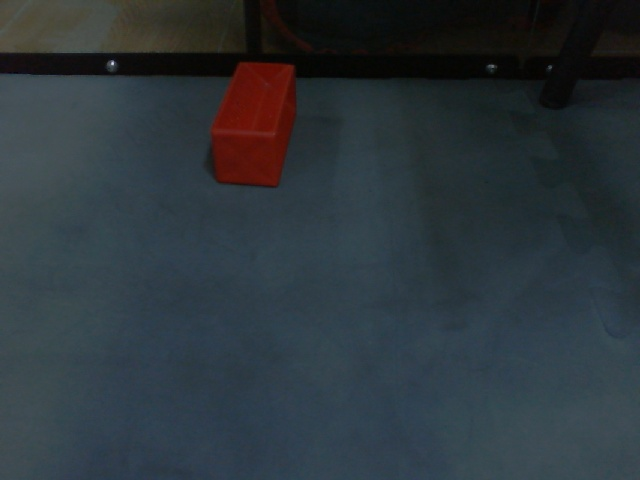RedSample: (208, 60, 298, 189)
